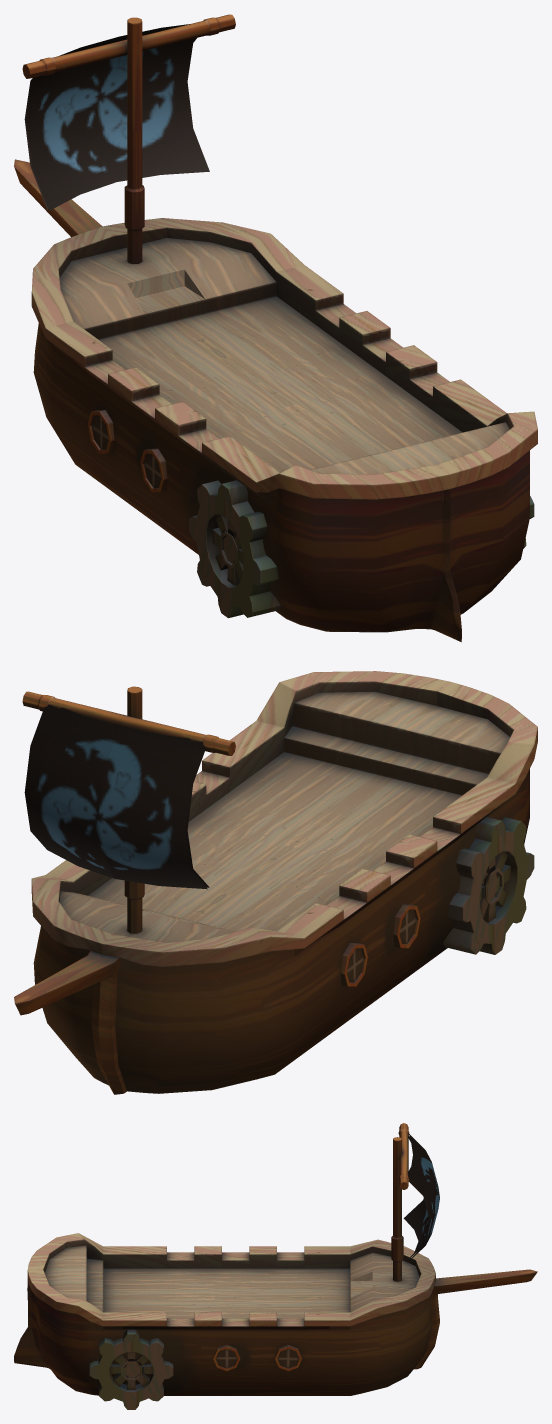
The model's file is ship_hata02.fbx.
3 views of the same model, one above another, from view 1: azimuth 30°, elevation 25°; view 2: azimuth 150°, elevation 25°; view 3: azimuth 270°, elevation 25° (orthographic). The views are drawn at different scales.
Parts seen in each view (by area): view 1: ship_hatamoyou; view 2: ship_hatamoyou; view 3: ship_hatamoyou.
Part boxes in pixels (x1,y1,x2,y2): ship_hatamoyou: [14, 14, 537, 642]; ship_hatamoyou: [14, 671, 537, 1094]; ship_hatamoyou: [14, 1123, 537, 1409].
Size of the model in its own units: 20.24 by 27.91 by 57.2.
1 material, 1 textured.
